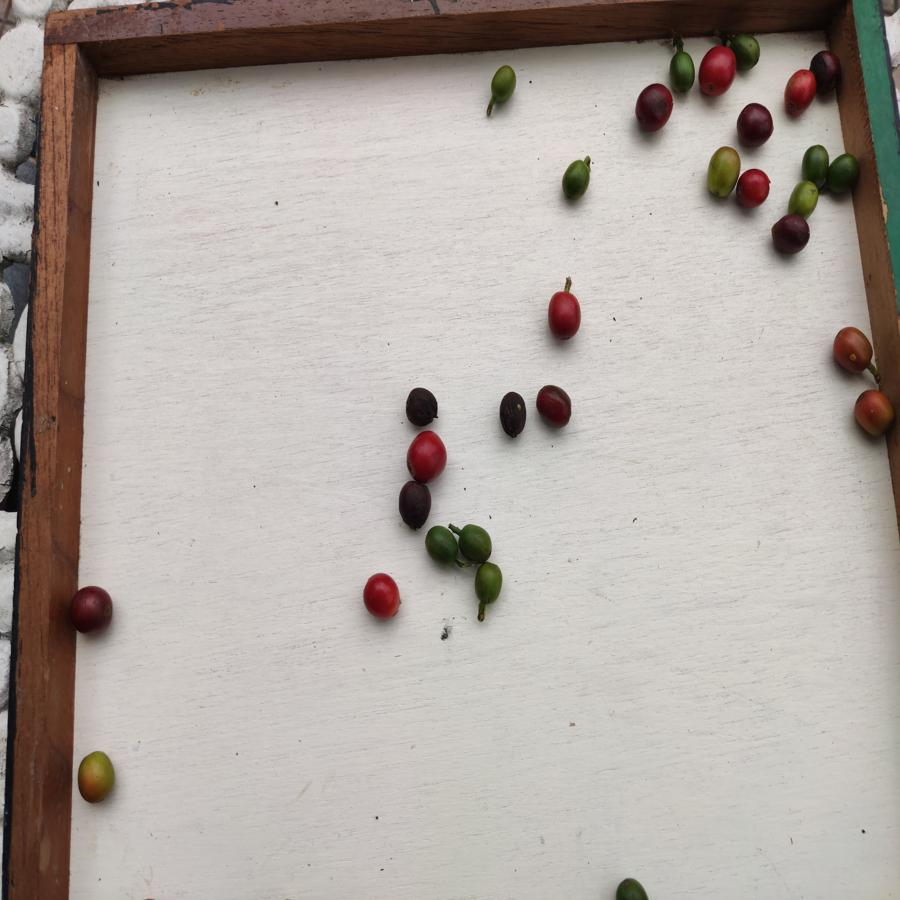Inmaduro: (827, 149, 861, 201), (423, 523, 459, 567), (457, 522, 493, 563), (475, 559, 505, 606), (666, 49, 698, 93), (729, 33, 763, 73), (487, 63, 520, 103), (803, 142, 829, 192), (562, 159, 591, 203), (791, 175, 819, 220), (615, 875, 651, 900)
Maduro: (361, 571, 405, 623), (404, 429, 447, 481), (546, 287, 582, 343), (699, 45, 737, 95), (782, 68, 816, 117), (737, 167, 773, 211)
Pinton: (74, 749, 120, 809), (849, 387, 898, 441), (831, 323, 873, 375), (703, 145, 741, 202)
Sobremaduro: (71, 585, 115, 634), (634, 83, 675, 134), (533, 378, 574, 429), (768, 214, 814, 259), (737, 100, 773, 147), (397, 481, 433, 528), (497, 388, 528, 439), (403, 385, 439, 426), (811, 47, 841, 96)
